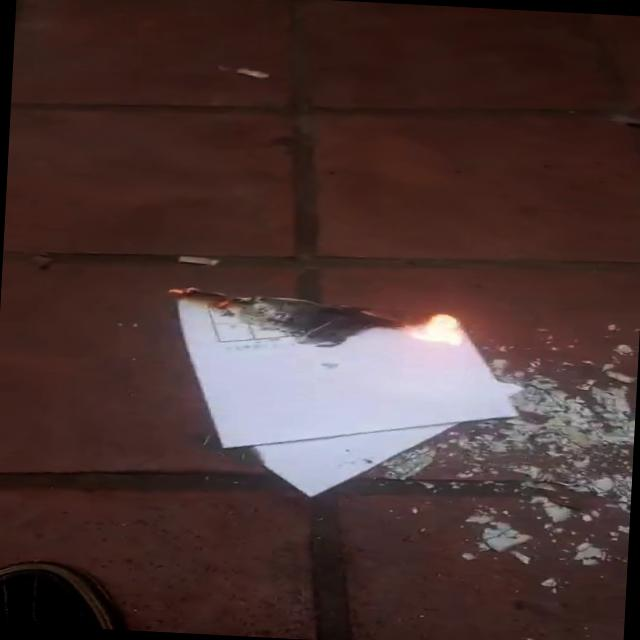Fire_Dangerous: (396, 310, 484, 342)
